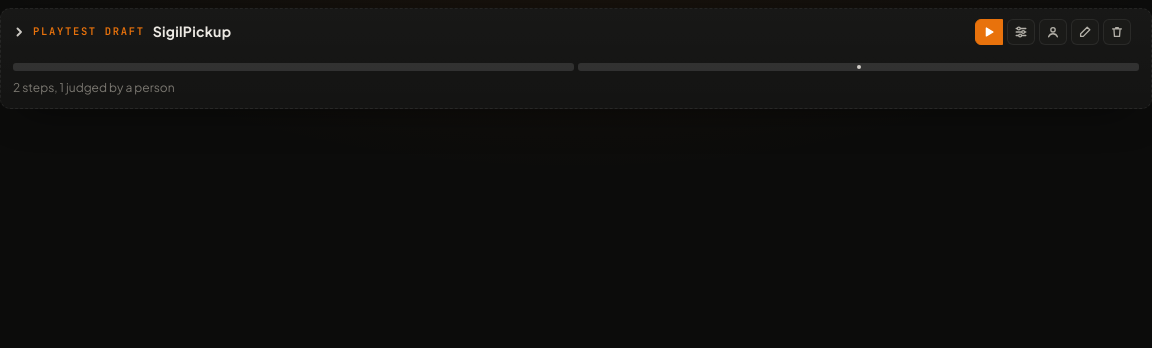
Scenario: a manual step's verdict before Start playtest › Fail asks what went wrong first, and sends the note
Click the button "Playtest draft SigilPickup" at (122, 32), box [13,21,231,43]
(page scrolled)
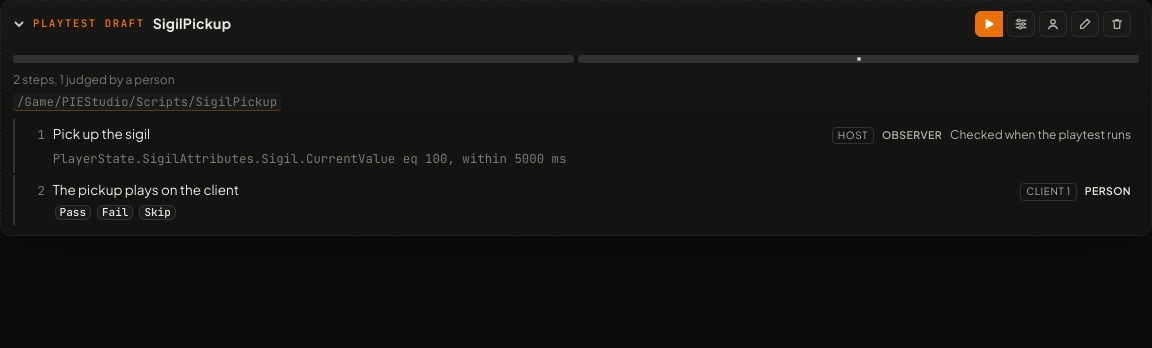
Click the button with aria-label "Fail step 2" at (115, 212), box [97,205,133,220]
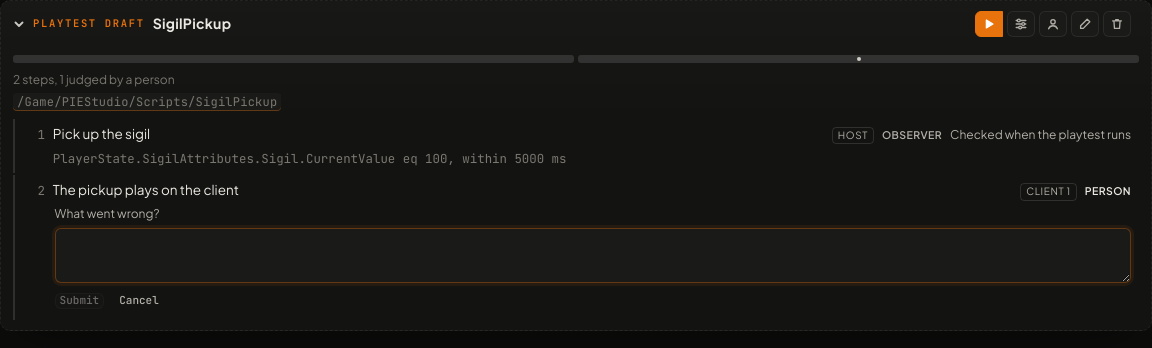
Type "No sound on the client" into the text box labelled "What went wrong?" at (593, 255), box [55,228,1131,283]
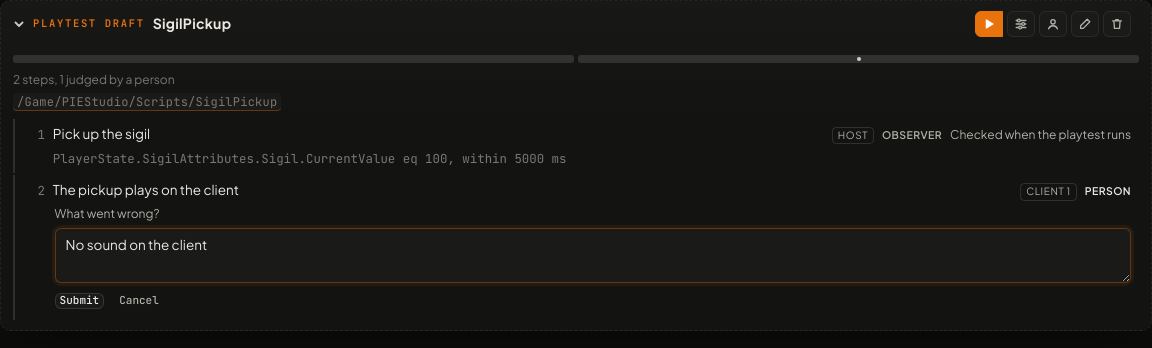
Click the button "Submit" at (79, 301), box [55,293,104,309]
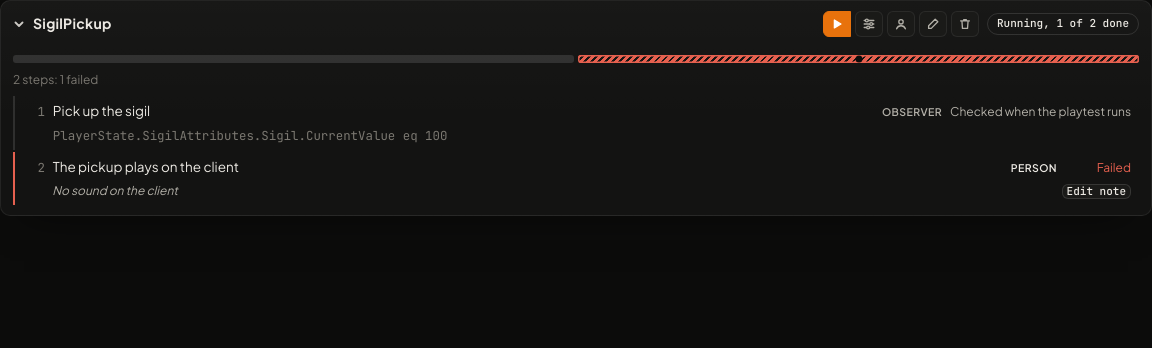
Expected: the text "No sound on the client" is shown, [52,182,178,200]
